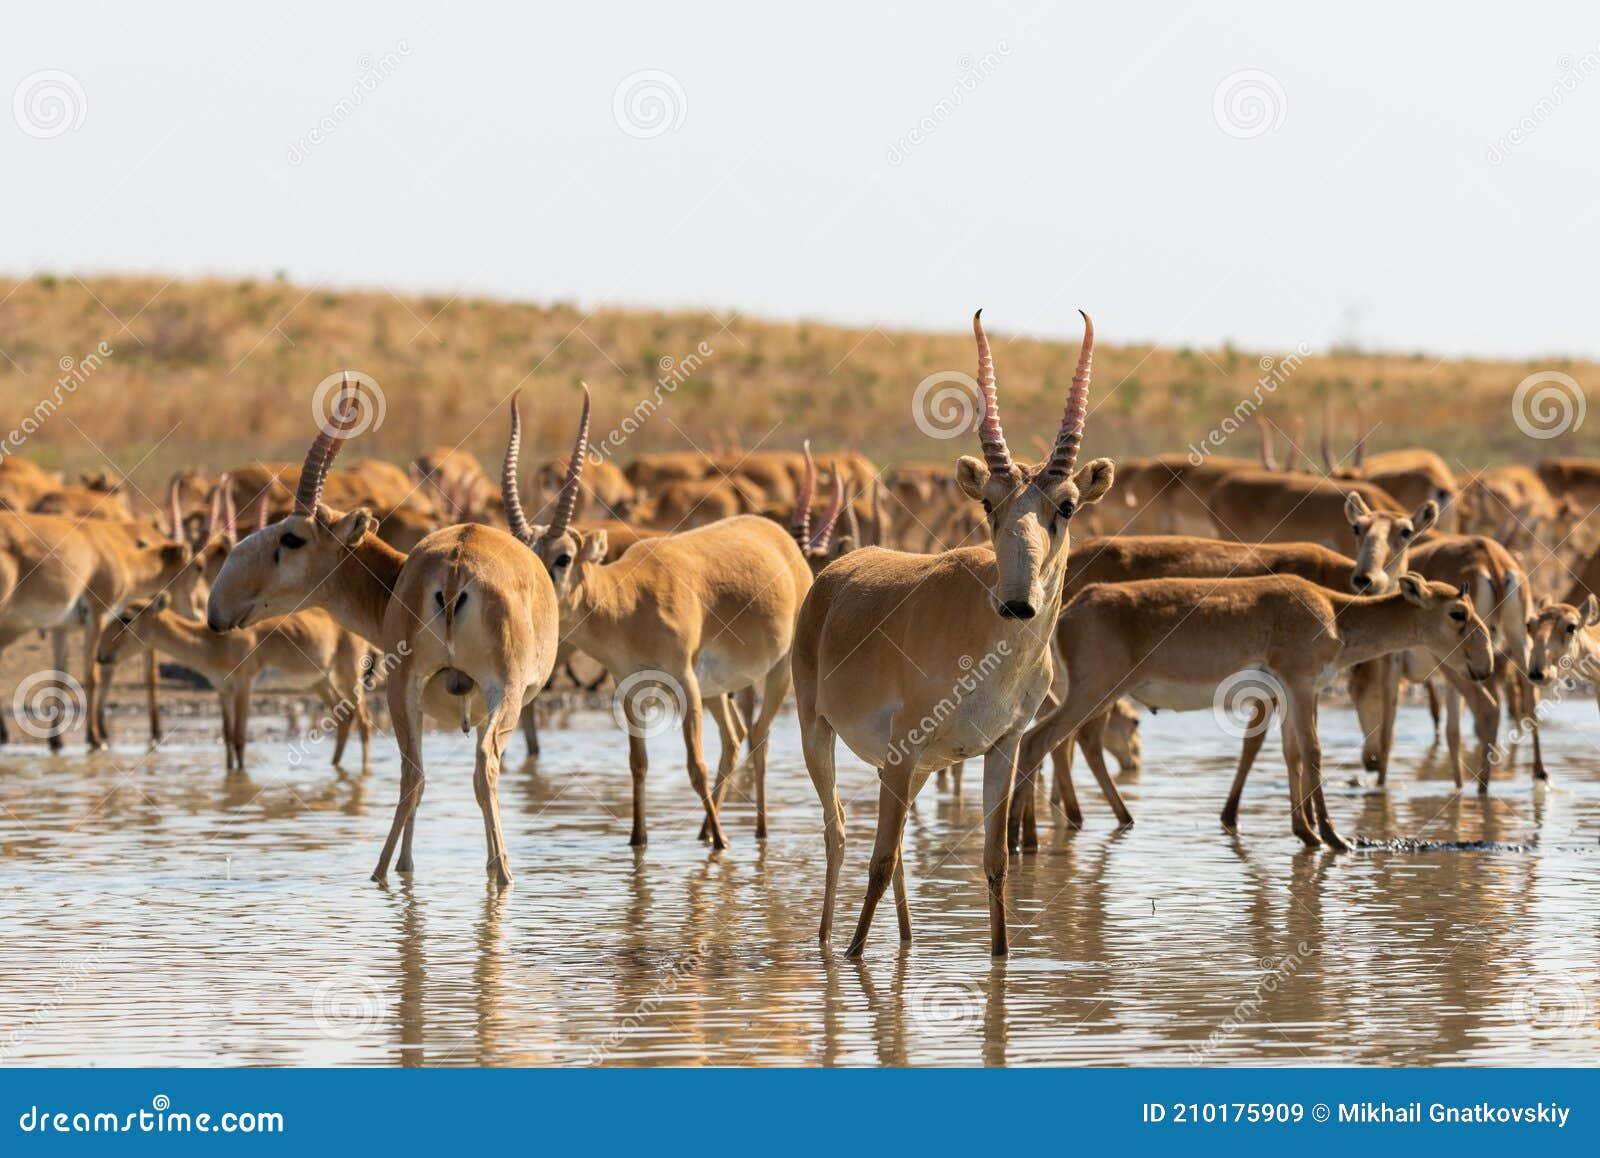saiga: (179, 367, 535, 917), (822, 309, 1067, 969)
